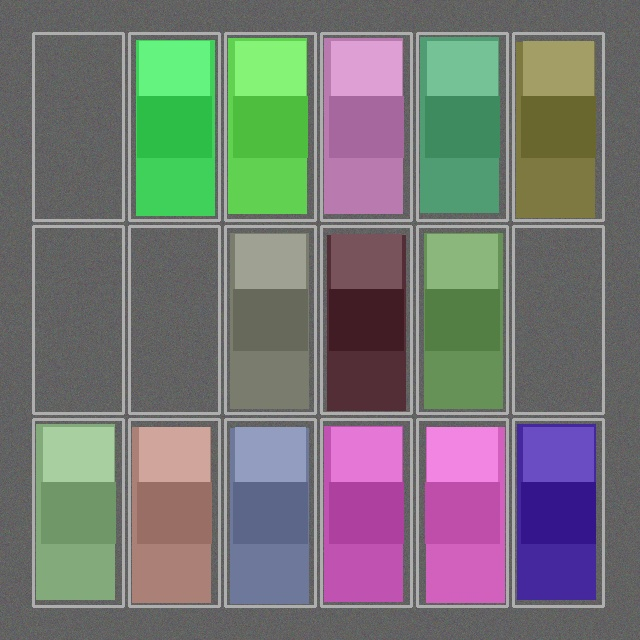space-empty: (35, 35, 121, 218), (35, 228, 121, 411), (131, 228, 217, 411), (515, 228, 601, 411)
space-occupied: (131, 35, 217, 218), (227, 35, 313, 218), (323, 35, 409, 218), (419, 35, 505, 218), (515, 35, 601, 218), (227, 228, 313, 411), (323, 228, 409, 411), (419, 228, 505, 411), (35, 421, 121, 604), (131, 421, 217, 604), (227, 421, 313, 604), (323, 421, 409, 604), (419, 421, 505, 604), (515, 421, 601, 604)
